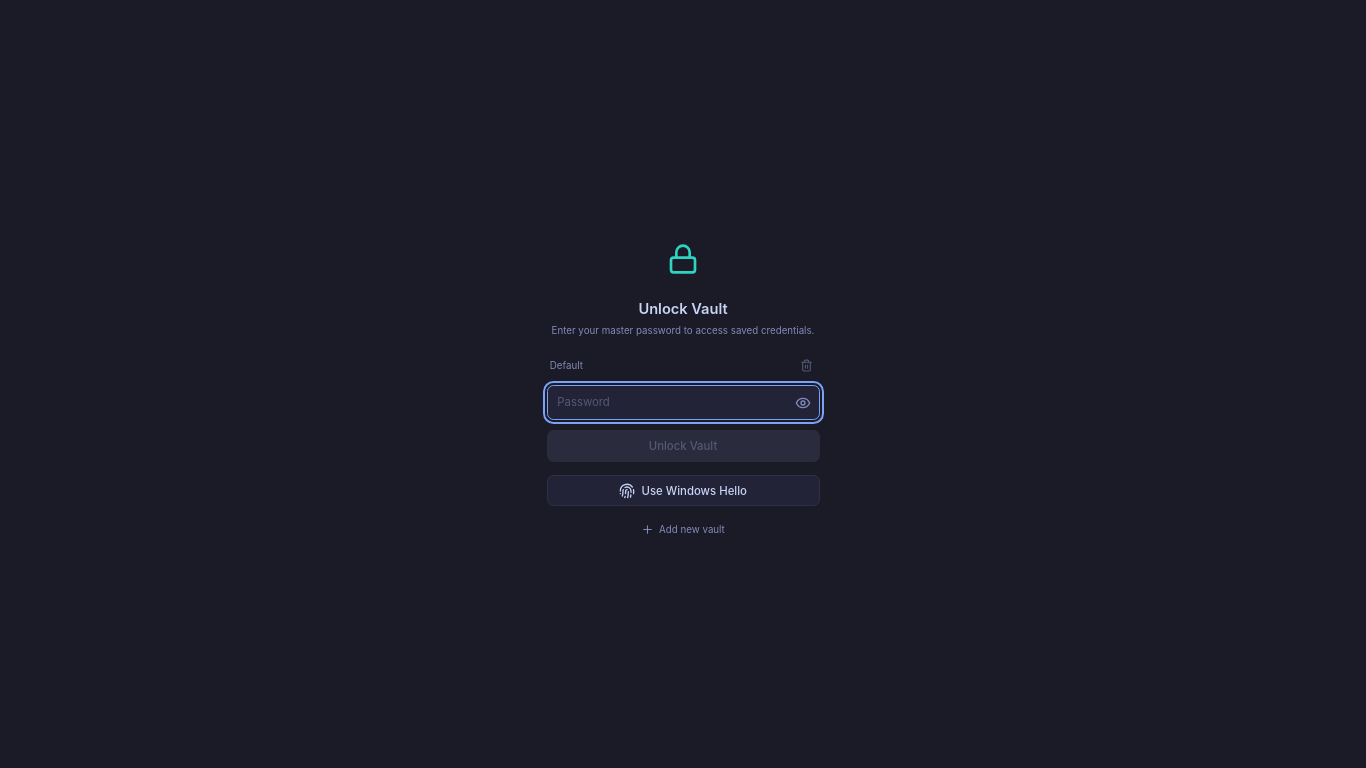
it: VaultUnlock › shows biometricUnavailable error when the biometric attempt fails
Click the button "Use Windows Hello". click: (683, 491)
box: [546,475,820,506]
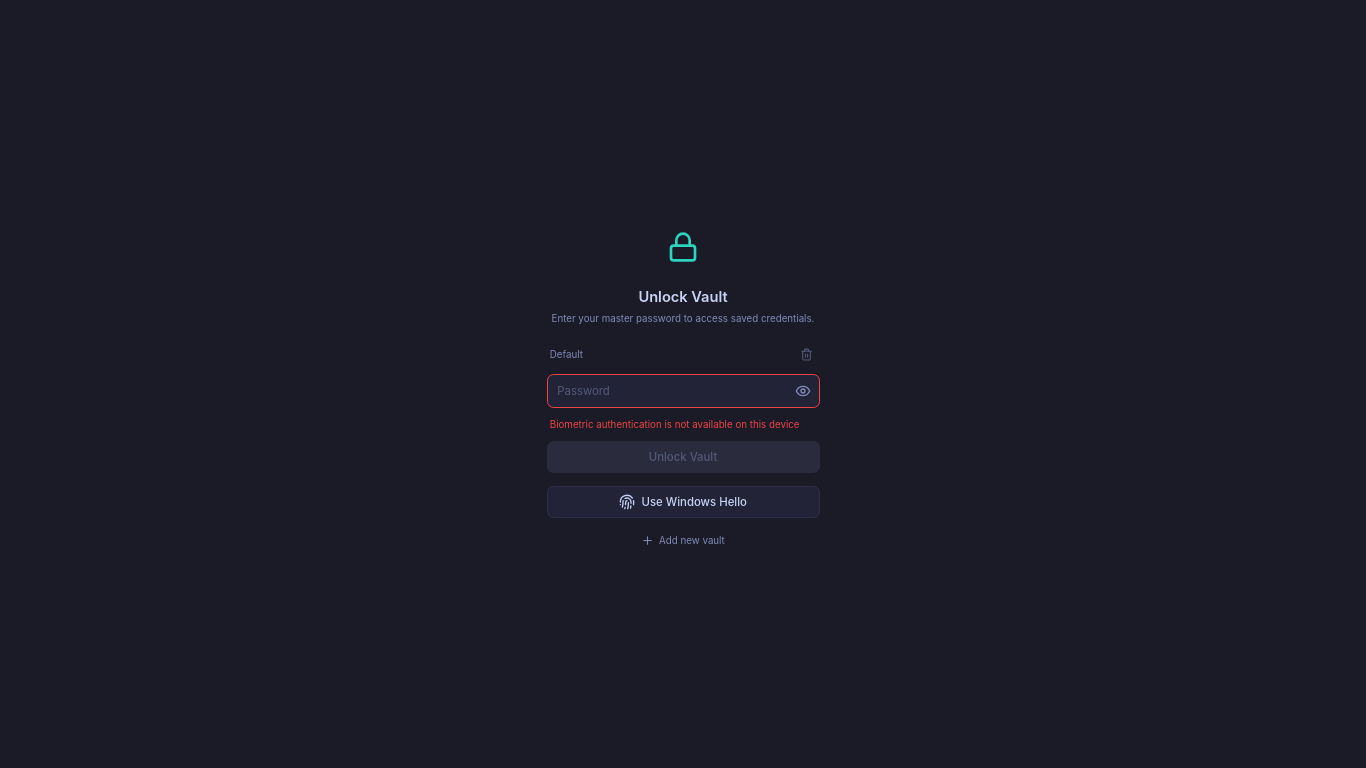
Result: the text "Biometric authentication is not available on this device" is shown at [546,418,820,431]
